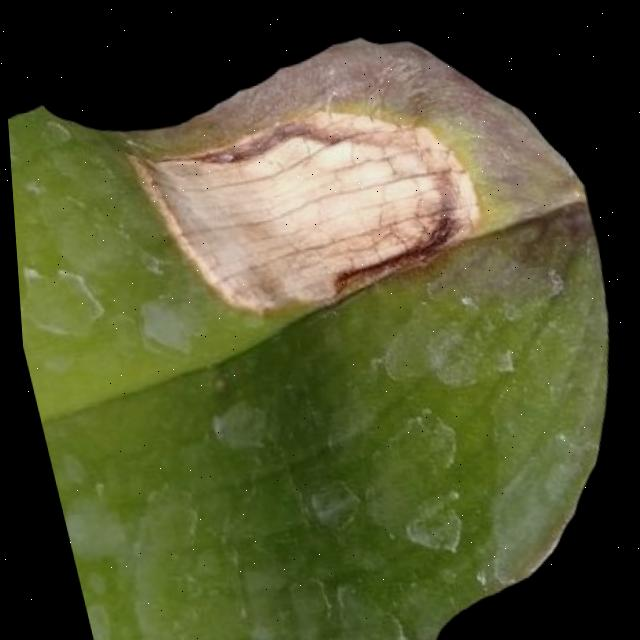mite: (337, 397, 477, 560), (14, 255, 107, 345), (122, 287, 202, 362), (52, 487, 125, 565), (387, 488, 465, 556), (197, 393, 272, 455), (289, 471, 359, 533), (3, 46, 58, 123), (76, 599, 106, 640)
spots: (4, 18, 640, 640)
sunburn: (117, 79, 492, 331)
